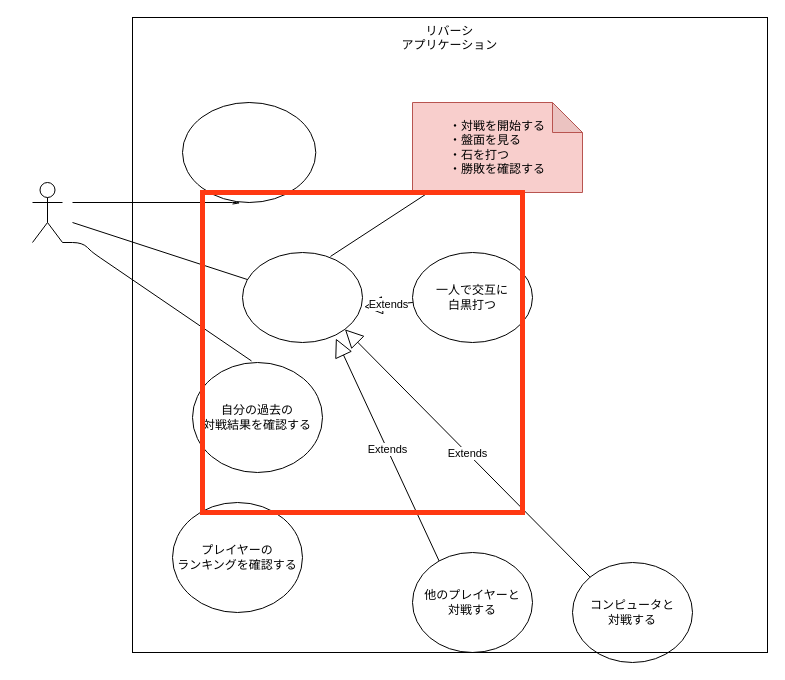
Some shapes in this 785 by 680 pixel diagram are drawn without their labels. Each missing label, with the centre of its shape:
プレイヤー: point (47, 212)
会員登録する ログインする: point (249, 152)
対戦する: point (302, 297)
